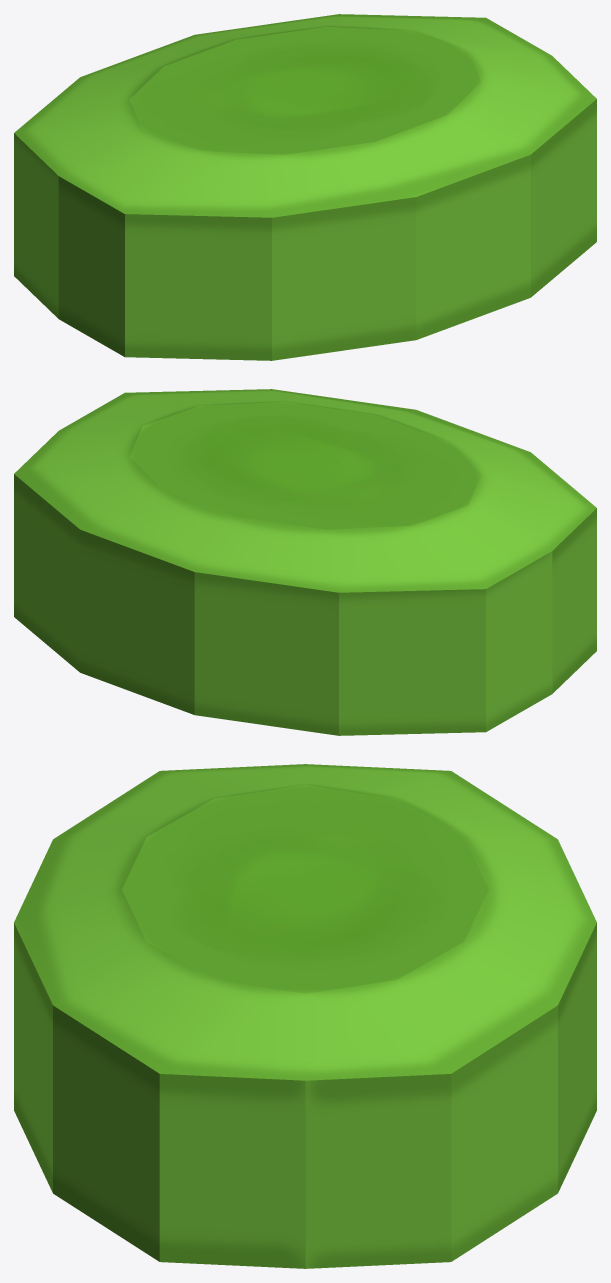
Rendered from dulceFrutas.fbx.
3 renders of one model, top to bottom at view 1: azimuth 30°, elevation 25°; view 2: azimuth 150°, elevation 25°; view 3: azimuth 270°, elevation 25°, orthographic. The views are drawn at different scales.
Visible parts, largest first — view 1: pCylinder3; view 2: pCylinder3; view 3: pCylinder3.
Part boxes in pixels (bbox=[...]): pCylinder3: bbox=[14, 14, 596, 360]; pCylinder3: bbox=[14, 389, 596, 735]; pCylinder3: bbox=[14, 764, 596, 1268].
Size of the model in its own units: 21.76 by 8.14 by 16.93.
1 material, 1 textured.
